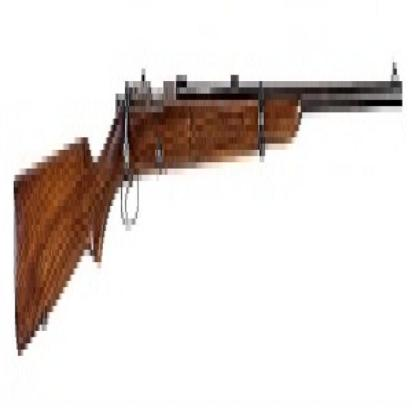Gun: (12, 57, 403, 347)
